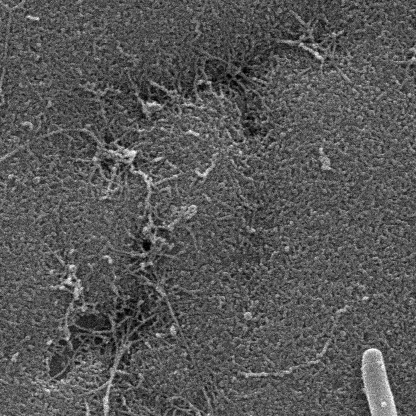regular: (361, 347, 404, 416)
